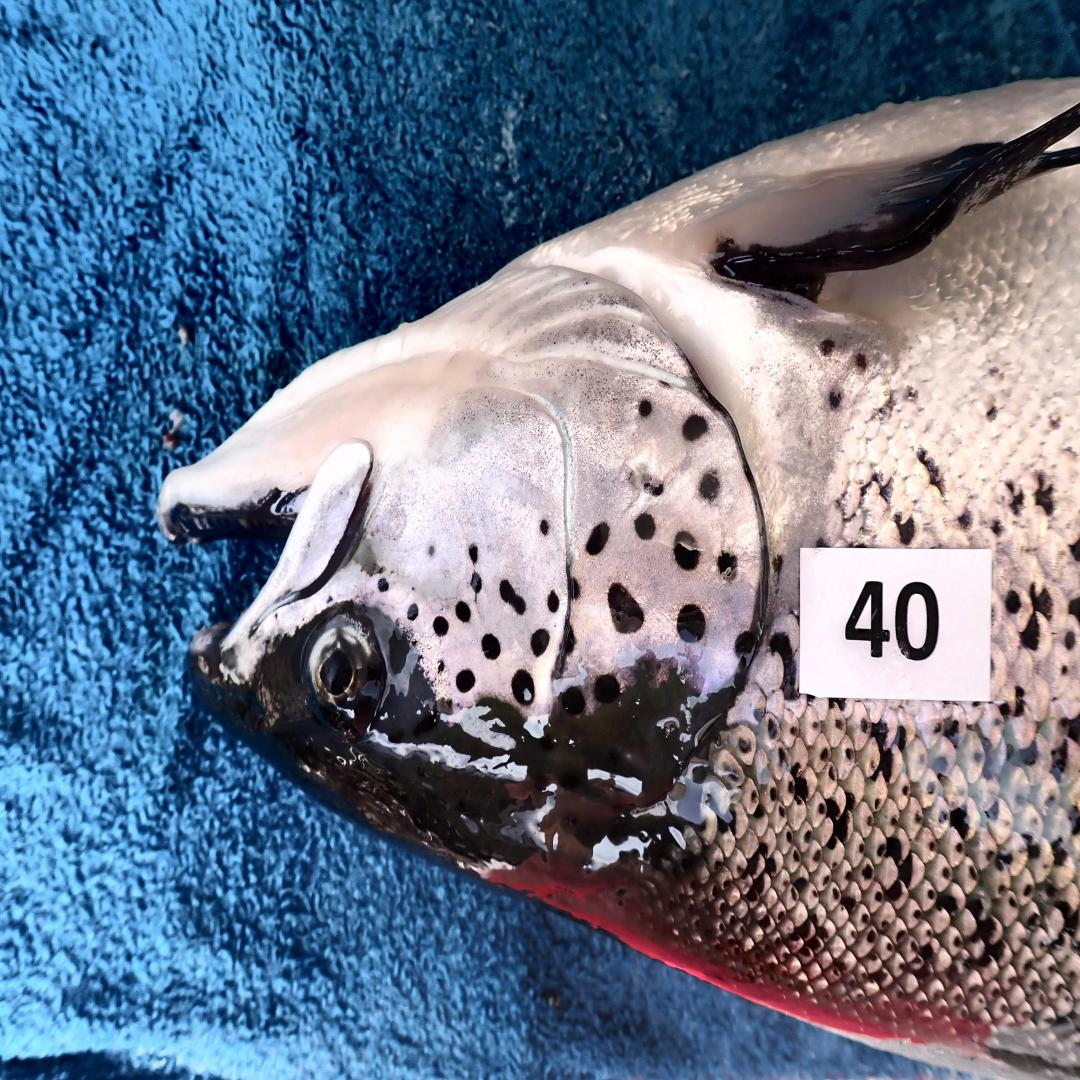spot: (608, 582, 643, 633), (631, 464, 664, 498), (677, 605, 705, 644), (557, 619, 576, 675), (673, 532, 700, 571), (500, 579, 525, 616), (734, 630, 759, 667), (510, 669, 534, 706), (681, 413, 709, 442), (698, 470, 721, 503), (586, 523, 610, 554), (595, 675, 620, 703), (717, 551, 738, 582), (561, 686, 584, 714), (481, 633, 500, 661), (635, 515, 656, 540), (532, 627, 548, 655), (456, 669, 475, 692), (432, 616, 449, 636), (567, 574, 580, 599), (546, 591, 559, 613), (470, 571, 483, 593), (456, 602, 470, 622), (637, 399, 652, 416), (468, 543, 479, 562), (378, 577, 390, 593), (407, 605, 418, 622), (540, 520, 548, 534), (437, 661, 445, 675), (427, 544, 435, 557)
